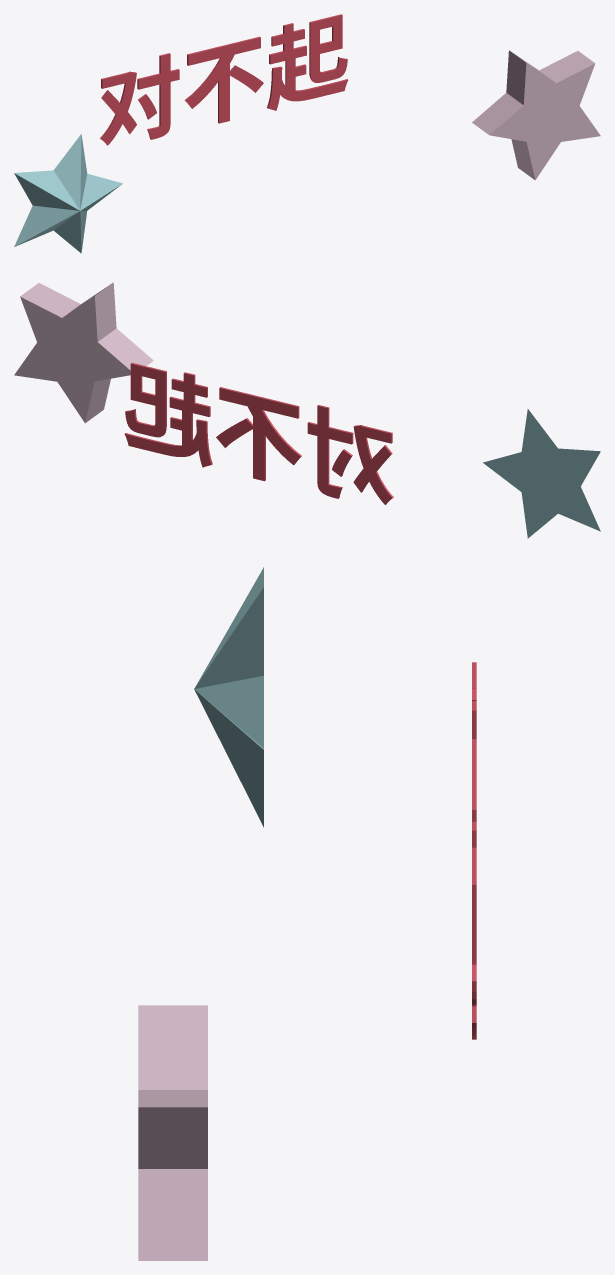
File: pat.glb
3 views of the same model, one above another, from view 1: azimuth 30°, elevation 25°; view 2: azimuth 150°, elevation 25°; view 3: azimuth 270°, elevation 25° (orthographic). The views are drawn at different scales.
Parts seen in each view (by area): view 1: Mesh_Mesh_head_geo.001_lambert2SG.001; view 2: Mesh_Mesh_head_geo.001_lambert2SG.001; view 3: Mesh_Mesh_head_geo.001_lambert2SG.001.
Boxes of the visible parts, x1,y1,x2,y2 form: Mesh_Mesh_head_geo.001_lambert2SG.001: (14,14,600,253); Mesh_Mesh_head_geo.001_lambert2SG.001: (14,282,600,538); Mesh_Mesh_head_geo.001_lambert2SG.001: (138,567,476,1260).
Bounding box in the file's own units: 184 × 42.47 × 48.52.
